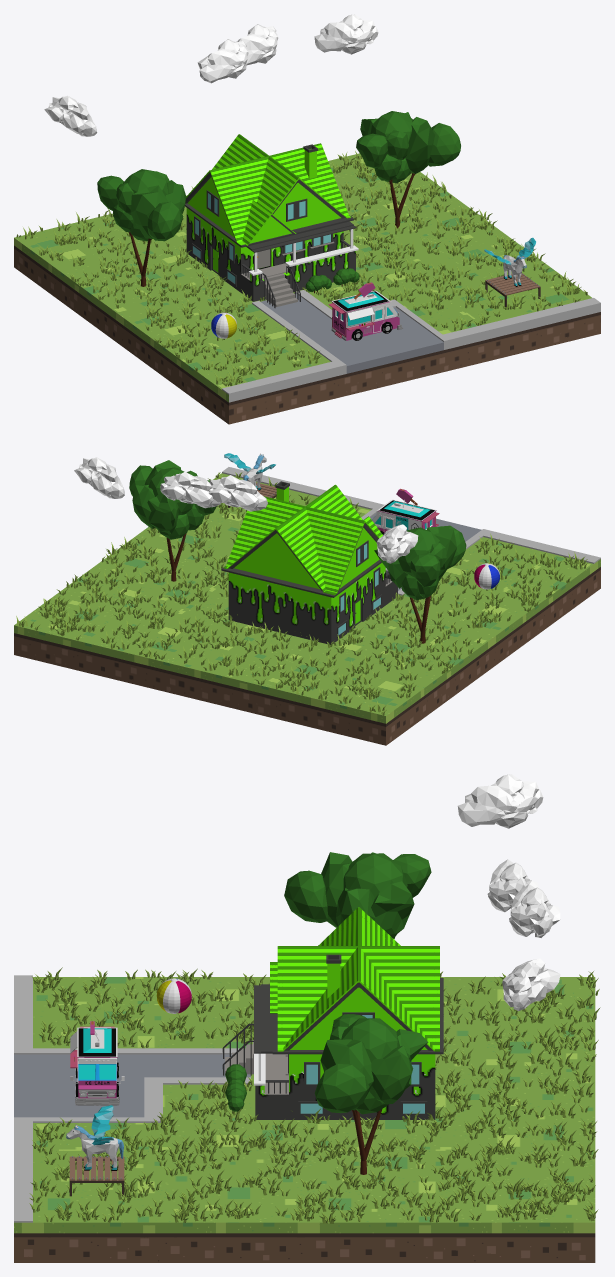
3 renders of one model, top to bottom at view 1: azimuth 30°, elevation 25°; view 2: azimuth 150°, elevation 25°; view 3: azimuth 270°, elevation 25°, orthographic. The views are drawn at different scales.
Parts seen in each view (by area): view 1: Cube.006, Cube.754, Circle.012_Grass_0.192, Cube.007, tree, tree.001, VEHICLES_ICE_CREAM_TRUCK, ANIMAL_PEGASO, Cube.009, OBJRANDOM_BEACHBALL; view 2: Cube.006, Cube.754, Circle.012_Grass_0.192, Cube.007, tree.001, tree, VEHICLES_ICE_CREAM_TRUCK, ANIMAL_PEGASO, OBJRANDOM_BEACHBALL; view 3: Cube.006, Circle.012_Grass_0.192, Cube.754, tree, Cube.007, tree.001, VEHICLES_ICE_CREAM_TRUCK, ANIMAL_PEGASO, Cube.009, OBJRANDOM_BEACHBALL.
Boxes of the visible parts, x1,y1,x2,y2 form: Cube.006: (14,153,600,424); Cube.754: (185,134,358,308); Circle.012_Grass_0.192: (16,151,587,386); Cube.007: (44,14,378,136); tree: (356,111,460,228); tree.001: (97,169,186,286); VEHICLES_ICE_CREAM_TRUCK: (328,282,402,340); ANIMAL_PEGASO: (484,237,535,286); Cube.009: (485,273,540,306); OBJRANDOM_BEACHBALL: (211,312,236,338); Cube.006: (14,467,600,745); Cube.754: (221,481,397,644); Circle.012_Grass_0.192: (16,472,587,715); Cube.007: (74,457,418,563); tree.001: (374,525,466,643); tree: (129,460,216,581); VEHICLES_ICE_CREAM_TRUCK: (372,488,439,534); ANIMAL_PEGASO: (224,453,275,490); OBJRANDOM_BEACHBALL: (474,563,499,589); Cube.006: (14,975,595,1262); Circle.012_Grass_0.192: (29,967,600,1223); Cube.754: (222,907,443,1119); tree: (314,1014,428,1174); Cube.007: (457,774,560,1011); tree.001: (284,852,431,938); VEHICLES_ICE_CREAM_TRUCK: (70,1021,124,1105); ANIMAL_PEGASO: (66,1105,123,1170); Cube.009: (69,1156,124,1196); OBJRANDOM_BEACHBALL: (156,978,191,1013).
Bounding box in the file's own units: 4071 × 2179 × 4040.
Materials: 43 (4 with a texture image).
